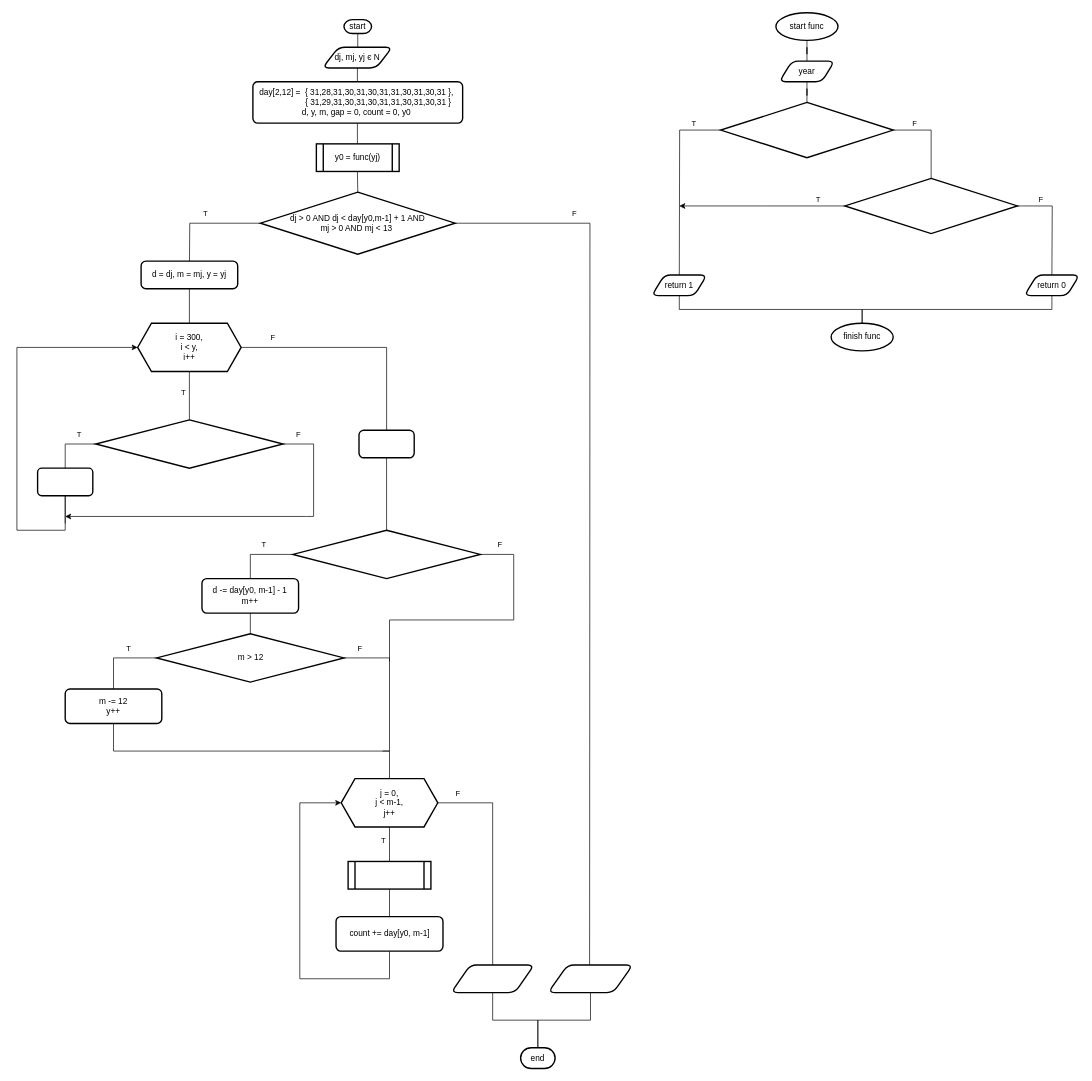
Some shapes in this 1092 by 1081 pixel diagram are drawn without their labels. The centre of each missing label's shape, as x and y in pixels:
"d += gap" goes at point (386, 443).
"d > day[y0, m-1]" goes at point (386, 554).
"d, m, y, count" goes at point (492, 978).
"gap++" goes at point (65, 481).
"i % 100 = 0 AND y % 400 != 0" goes at point (189, 444).
"Incorrect data" goes at point (590, 978).
"y0 = func(y)" goes at point (389, 874).
"year % 4 = 0 AND year % 100 != 0" goes at point (807, 129).
"year % 400 = 0" goes at point (931, 205).
